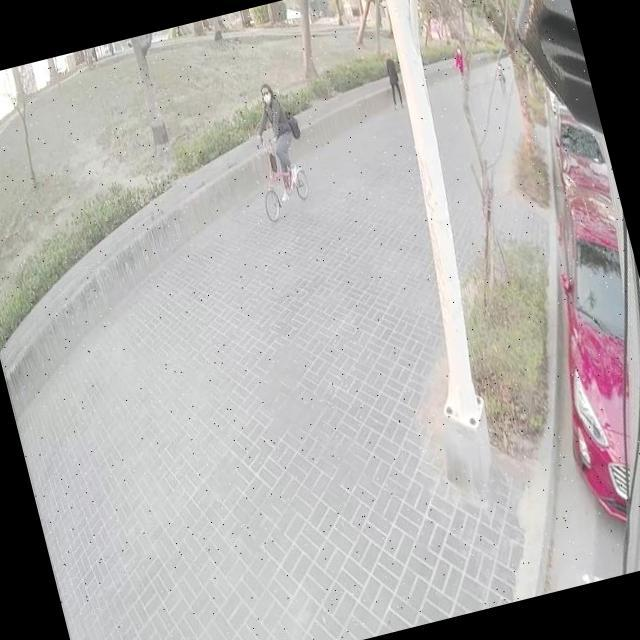person: (244, 78, 301, 188), (380, 47, 406, 109), (492, 56, 508, 93)
